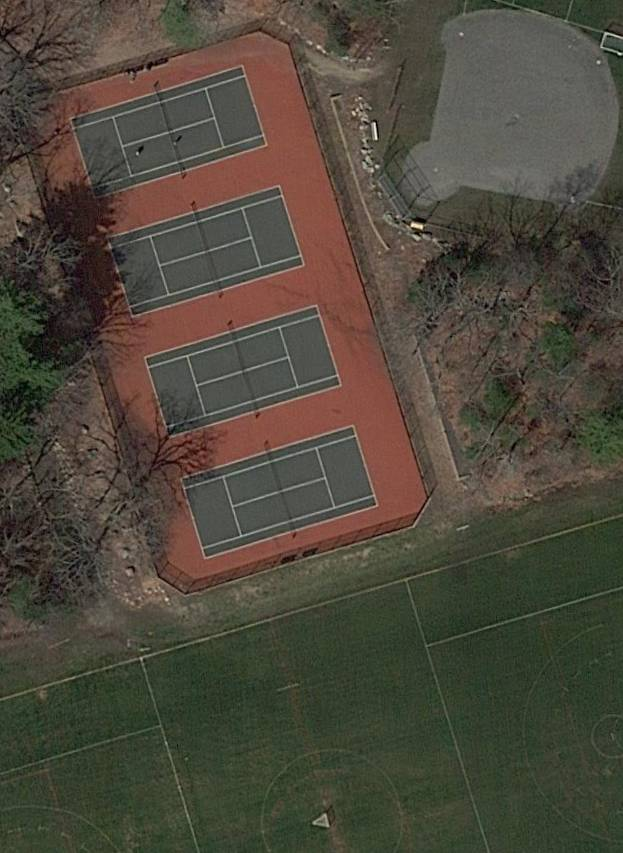baseball diamond: (436, 2, 623, 209)
tennis court: (69, 64, 270, 201), (181, 423, 379, 561), (144, 305, 343, 441), (108, 184, 306, 320)
